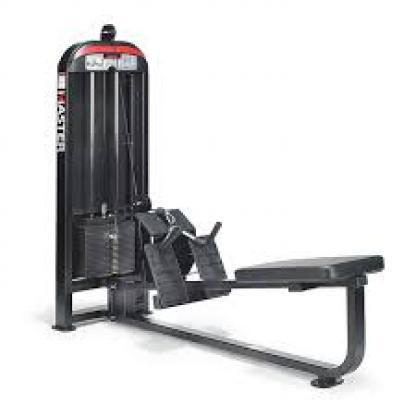Seated Cable Rows: (47, 20, 387, 397)
